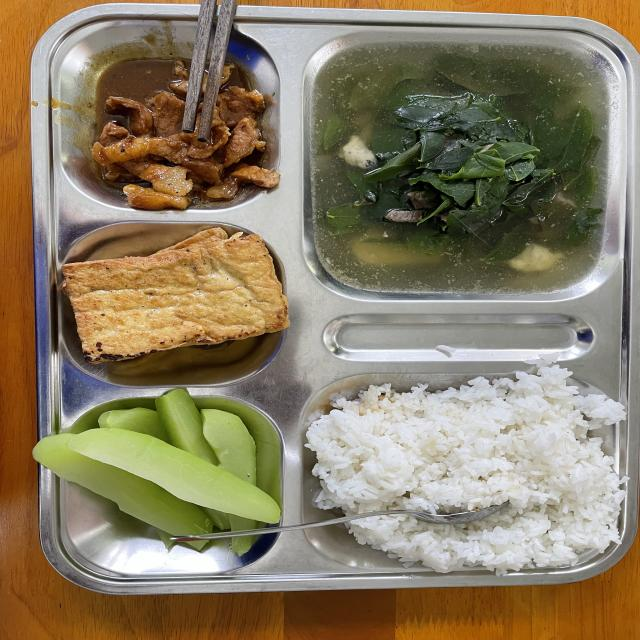com: (306, 361, 629, 576)
dau hu: (62, 228, 289, 361)
dua leo: (32, 389, 280, 547)
kho tieu: (91, 87, 280, 209)
